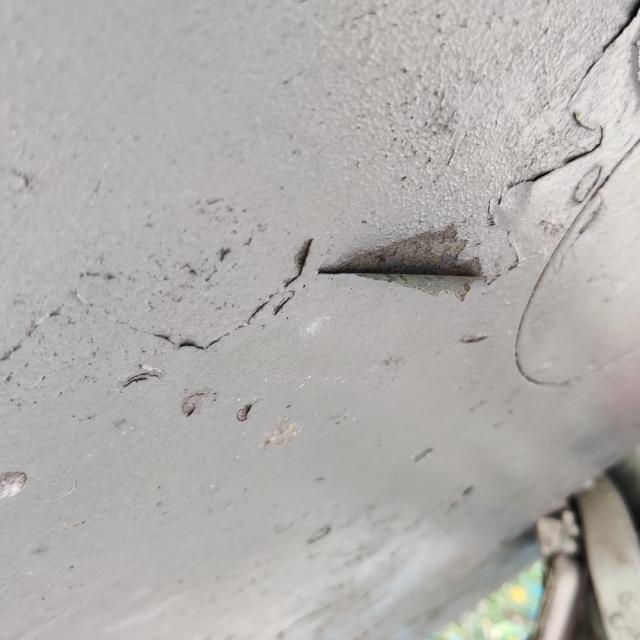paint-off: (307, 192, 504, 337)
